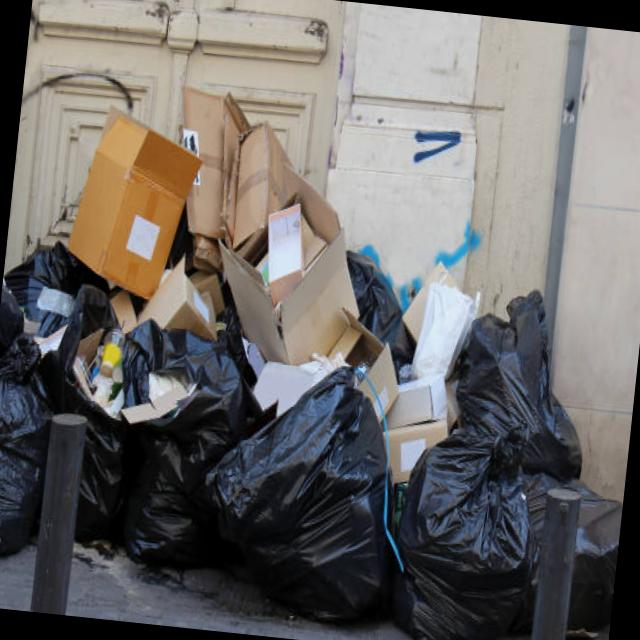garbage: (0, 79, 640, 616)
